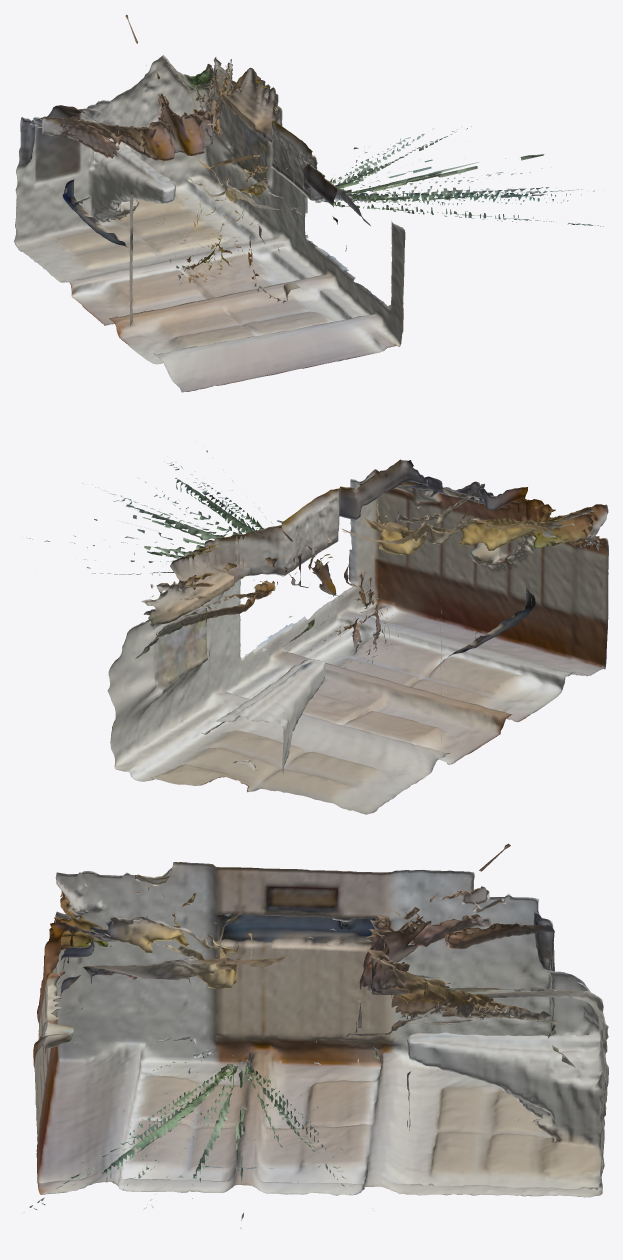
3 renders of one model, top to bottom at view 1: azimuth 30°, elevation 25°; view 2: azimuth 150°, elevation 25°; view 3: azimuth 270°, elevation 25°, orthographic. The views are drawn at different scales.
Visible parts, largest first — view 1: world; view 2: world; view 3: world.
Boxes of the visible parts, x1=… form: world: x1=14, y1=14, x2=603, y2=392; world: x1=30, y1=450, x2=608, y2=814; world: x1=24, y1=843, x2=608, y2=1228.
Size of the model in its own units: 5.4 by 2.57 by 4.73.
